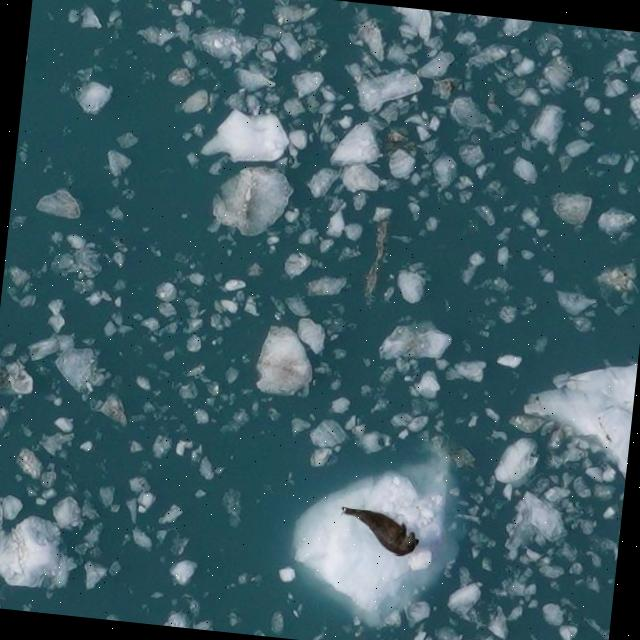seal: (342, 507, 418, 556)
